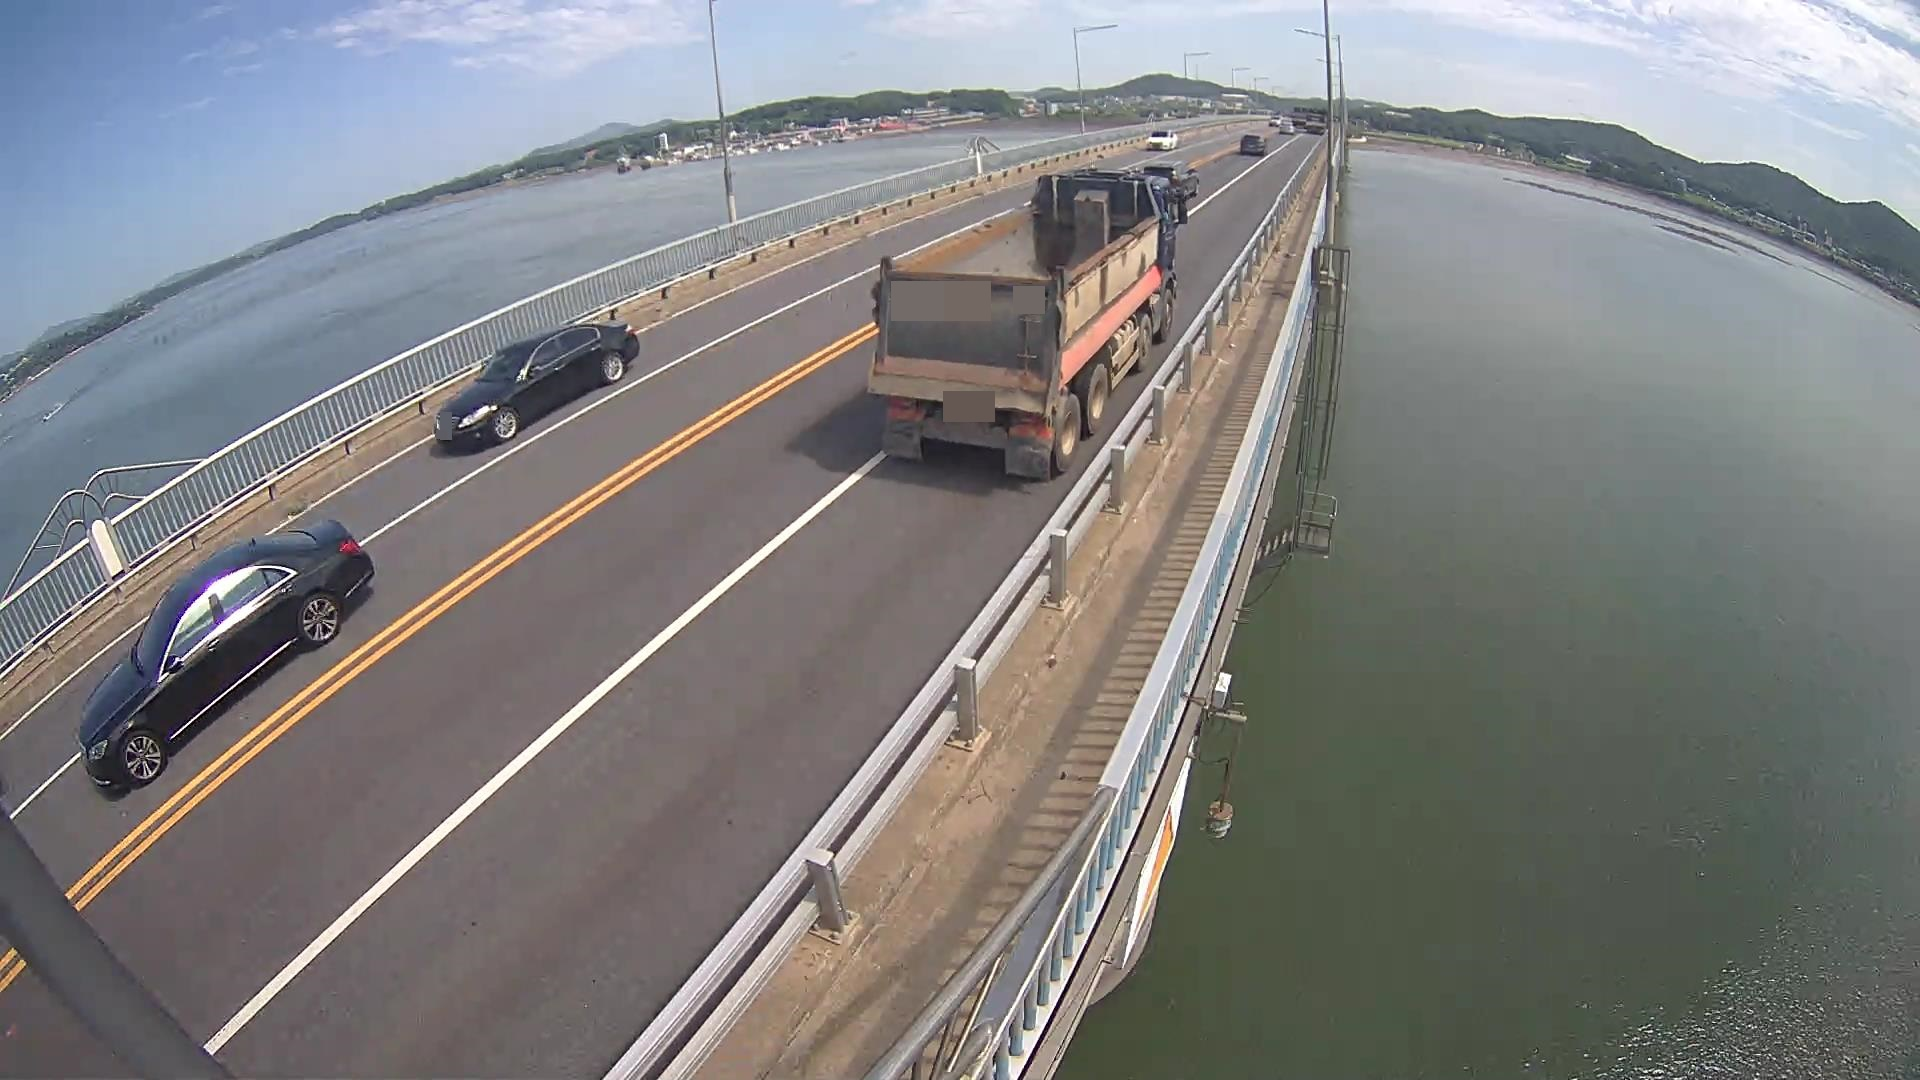정상차량: (866, 164, 1189, 483)
